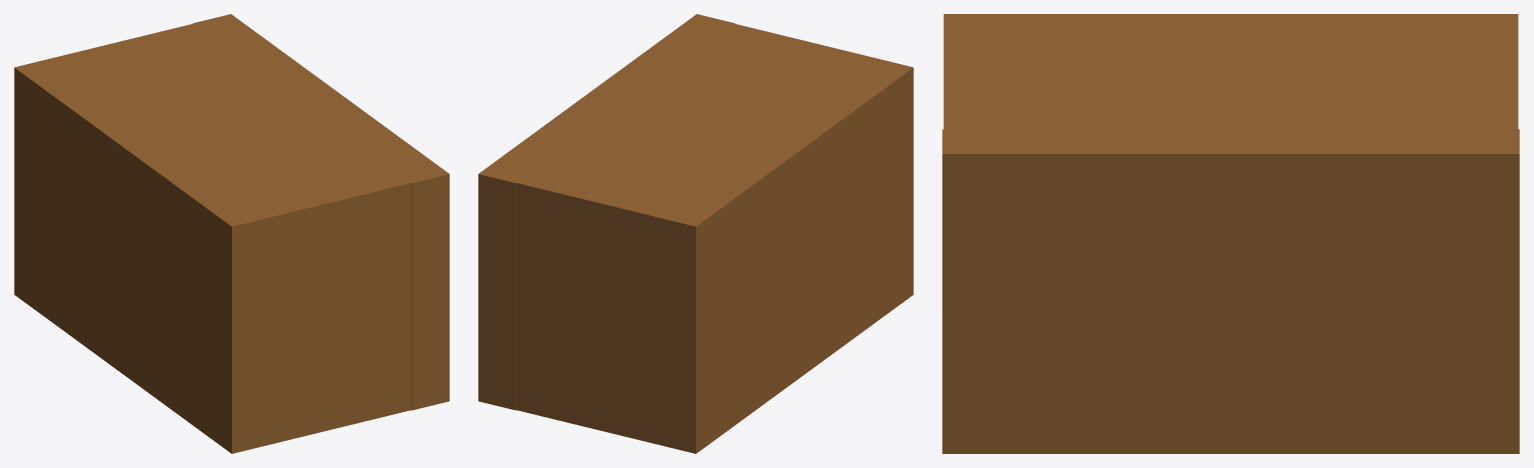
File: Package.fbx
3 views of the same model, side by side, from view 1: azimuth 30°, elevation 25°; view 2: azimuth 150°, elevation 25°; view 3: azimuth 270°, elevation 25° (orthographic). The views are drawn at different scales.
Parts seen in each view (by area): view 1: Box, Cube.002; view 2: Box, Cube.002; view 3: Cube.002, Box.
Boxes of the visible parts, x1,y1,x2,y2 form: Box: (14, 23, 411, 453); Cube.002: (193, 14, 449, 410); Box: (516, 23, 913, 453); Cube.002: (478, 14, 734, 410); Cube.002: (942, 129, 1519, 453); Box: (943, 14, 1518, 129).
Bounding box in the file's own units: 200 × 200 × 349.
